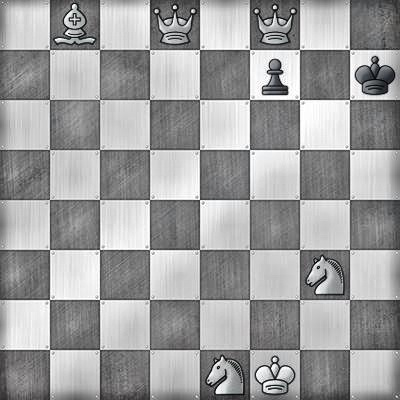black-king: (350, 50, 400, 100)
black-pawn: (250, 50, 300, 100)
white-bishop: (50, 0, 100, 50)
white-king: (250, 350, 300, 400)
white-knight: (300, 250, 350, 300), (200, 350, 250, 400)
white-queen: (150, 0, 200, 50), (250, 0, 300, 50)
